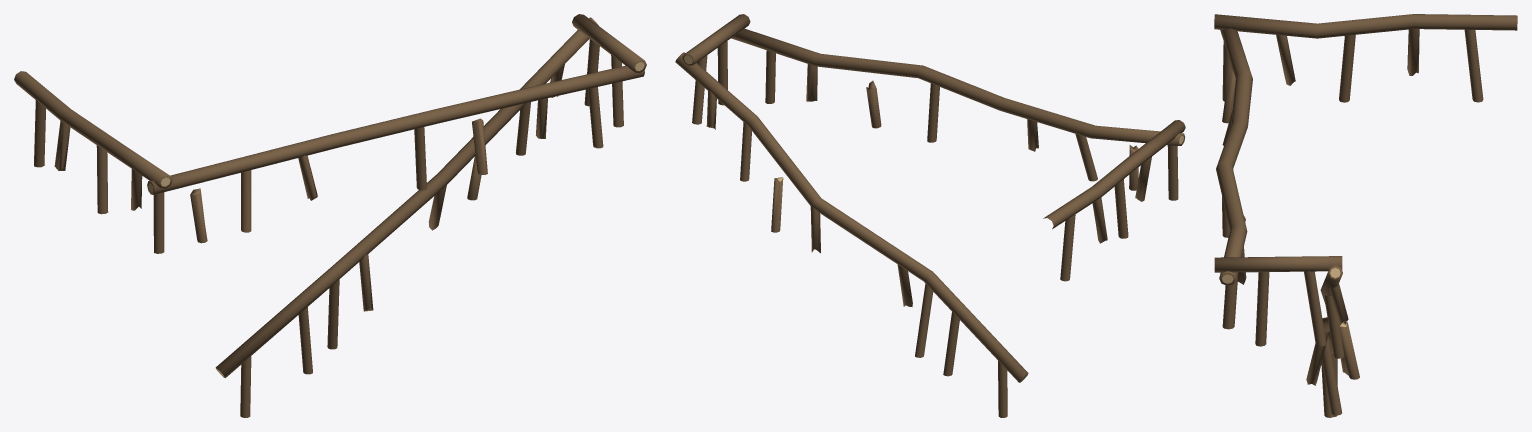
File: rpgpp_av_stairs_interior_01a_3m_handrail_01.gltf
3 views of the same model, side by side, from view 1: azimuth 30°, elevation 25°; view 2: azimuth 150°, elevation 25°; view 3: azimuth 270°, elevation 25° (orthographic). The views are drawn at different scales.
Parts seen in each view (by area): view 1: rpgpp_av_stairs_interior_01a_3m_handrail_01; view 2: rpgpp_av_stairs_interior_01a_3m_handrail_01; view 3: rpgpp_av_stairs_interior_01a_3m_handrail_01.
Boxes of the visible parts, x1=… form: rpgpp_av_stairs_interior_01a_3m_handrail_01: x1=14, y1=14, x2=646, y2=417; rpgpp_av_stairs_interior_01a_3m_handrail_01: x1=675, y1=14, x2=1185, y2=417; rpgpp_av_stairs_interior_01a_3m_handrail_01: x1=1214, y1=14, x2=1517, y2=417.
Size of the model in its own units: 0.0644 by 0.0384 by 0.0318.
1 material, 1 textured.
